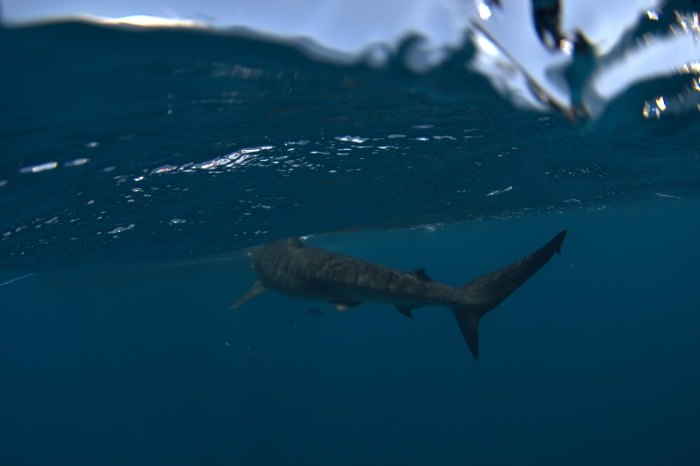Hammer: (214, 200, 583, 383)
